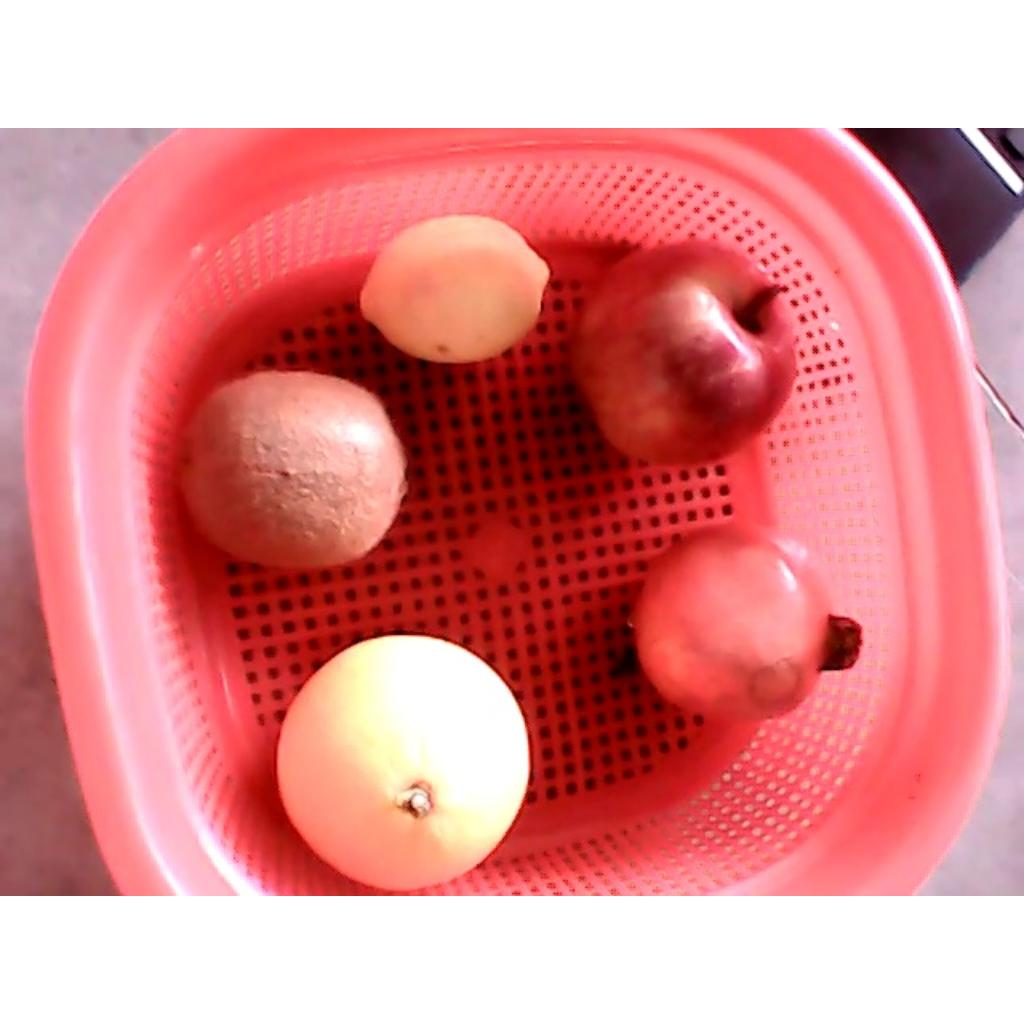apple: (568, 239, 799, 468)
kiwi: (174, 369, 406, 572)
lemon: (357, 214, 551, 365)
orange: (276, 635, 529, 894)
pomegranate: (633, 519, 863, 726)
